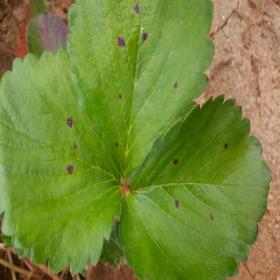Leaf Spot: (115, 93, 272, 279), (0, 46, 123, 276), (66, 0, 216, 181)
